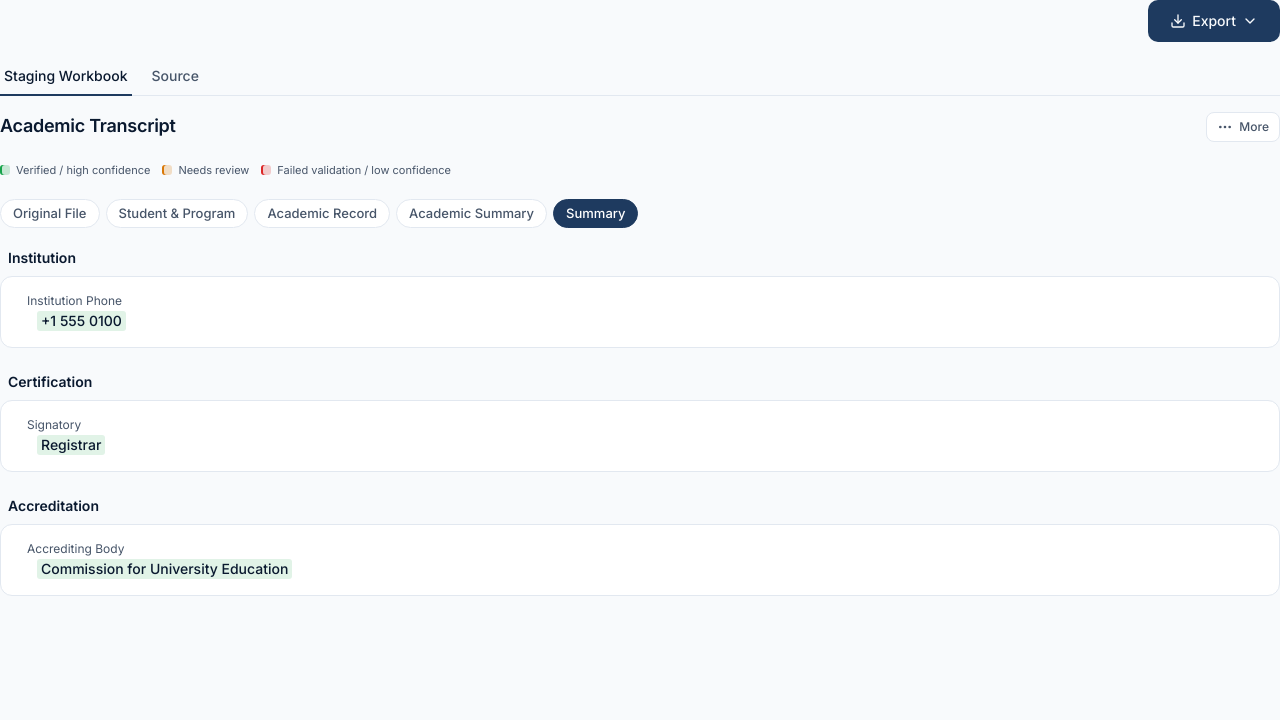
Test case: Academic transcript presentation › opens a value's evidence with humanized technical details
Click the tab "Student & Program": (177, 213) [106,198,248,228]
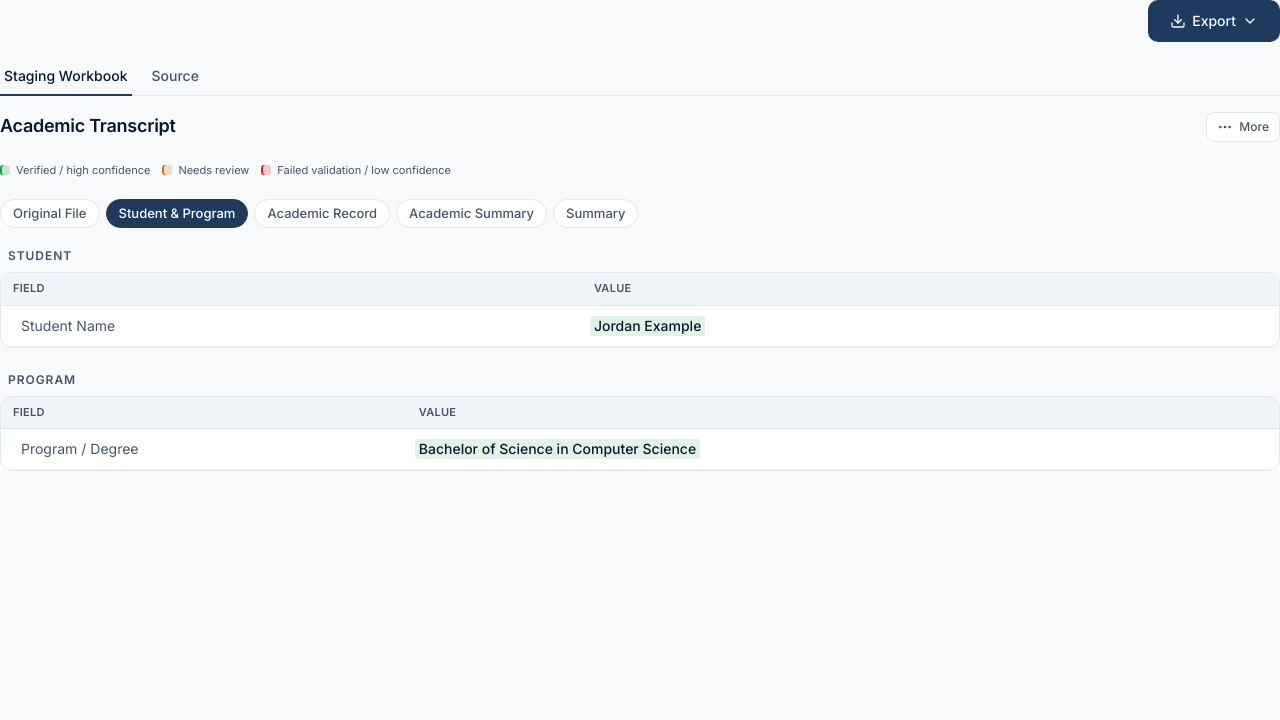
Click the button "Jordan Example": (658, 326) [590,316,725,336]
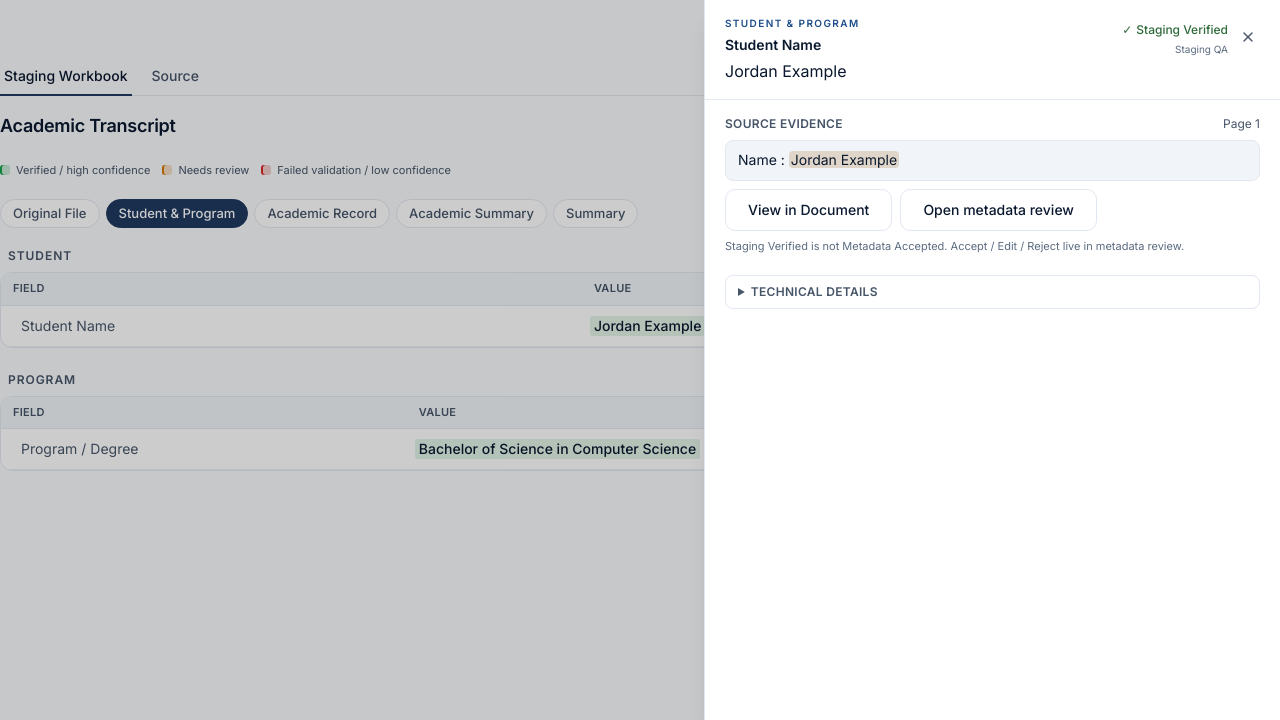
Expected: the dialog named "Evidence" shows "Source Evidence", [725,116,843,131]
Expected: the dialog named "Evidence" shows "Page 1", [1223,116,1260,131]
Expected: the dialog named "Evidence" shows "Name : Jordan Example"
